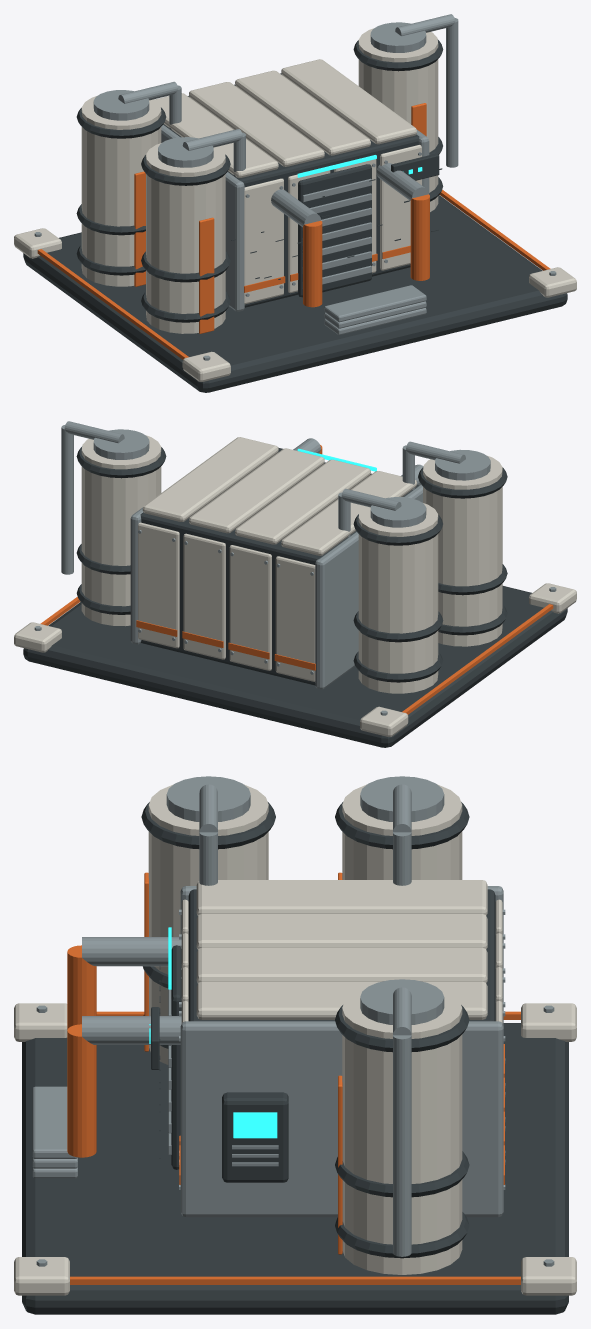
Rendered from SM_FuelCellPlant_Body.fbx.
3 renders of one model, top to bottom at view 1: azimuth 30°, elevation 25°; view 2: azimuth 150°, elevation 25°; view 3: azimuth 270°, elevation 25°, orthographic. The views are drawn at different scales.
Parts seen in each view (by area): view 1: SM_FuelCellPlant_Body; view 2: SM_FuelCellPlant_Body; view 3: SM_FuelCellPlant_Body.
Part boxes in pixels (x1,y1,x2,y2): SM_FuelCellPlant_Body: [14, 14, 576, 392]; SM_FuelCellPlant_Body: [14, 421, 576, 747]; SM_FuelCellPlant_Body: [14, 776, 576, 1314].
Size of the model in its own units: 503 by 422 by 247.
